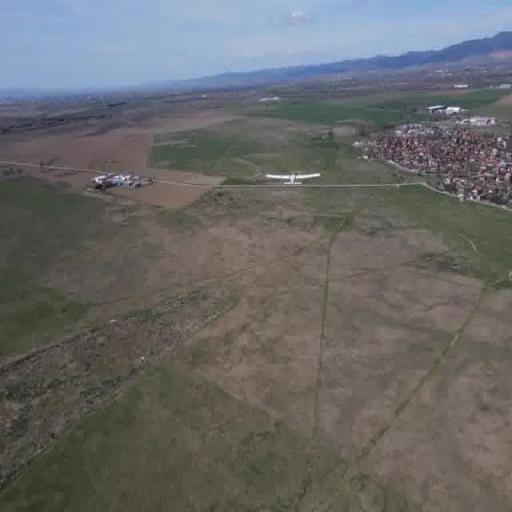uav: (264, 166, 322, 194)
